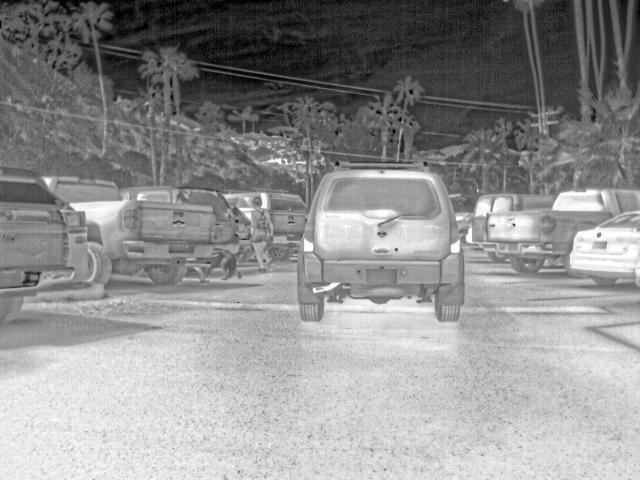car: (296, 158, 466, 322), (42, 175, 217, 288), (488, 188, 639, 276), (0, 204, 76, 326), (115, 188, 233, 264), (221, 189, 310, 260), (472, 193, 559, 263), (568, 211, 639, 291), (0, 168, 90, 203), (457, 212, 472, 241)
dog: (198, 247, 244, 287)
person: (248, 194, 275, 273)
